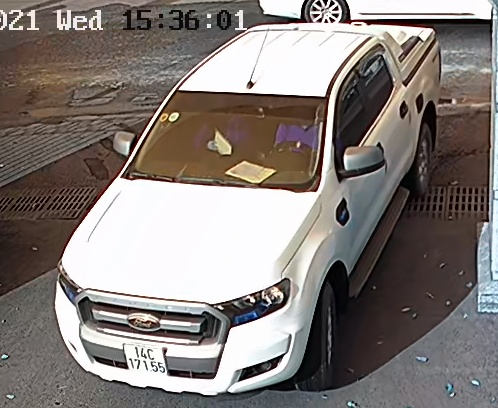vehicle plate: (120, 340, 170, 375)
